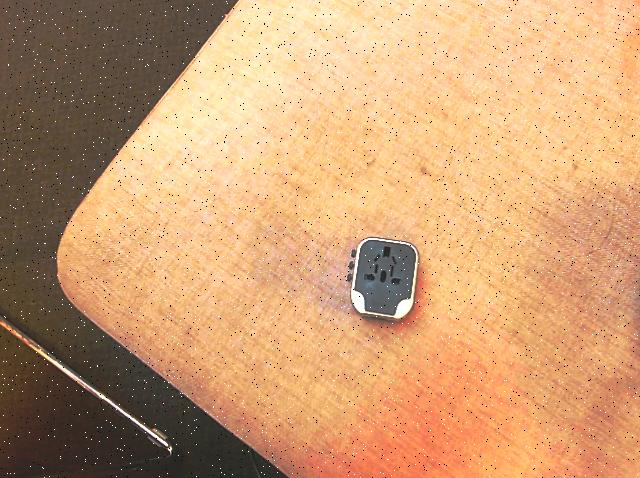adapter: (346, 236, 418, 321)
